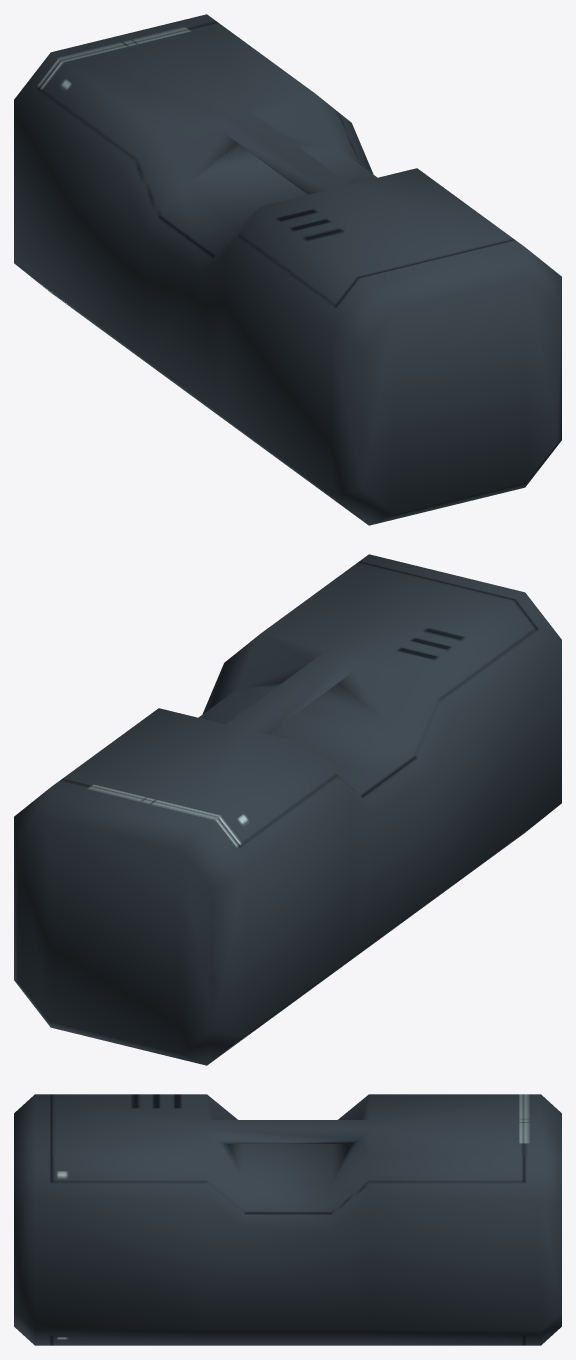
File: ammo_box.glb
3 renders of one model, top to bottom at view 1: azimuth 30°, elevation 25°; view 2: azimuth 150°, elevation 25°; view 3: azimuth 270°, elevation 25°, orthographic. The views are drawn at different scales.
Parts seen in each view (by area): view 1: ammo_box; view 2: ammo_box; view 3: ammo_box.
Boxes of the visible parts, x1,y1,x2,y2 form: ammo_box: [14, 14, 561, 525]; ammo_box: [14, 554, 561, 1065]; ammo_box: [14, 1094, 561, 1345].
Bounding box in the file's own units: 0.1538 × 0.1538 × 0.4.
1 material, 1 textured.
